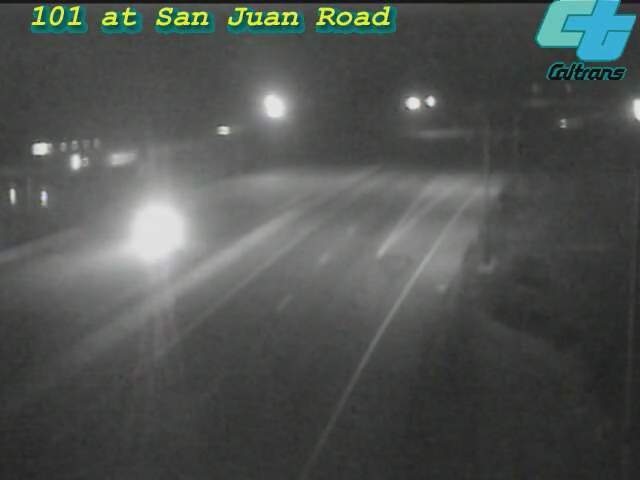vehicle: (110, 191, 190, 271)
